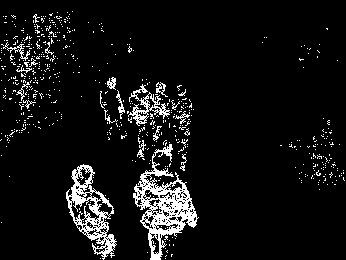person: (67, 154, 123, 257), (144, 152, 197, 260), (98, 76, 129, 142), (177, 81, 199, 173), (155, 81, 173, 150), (136, 78, 150, 162)
